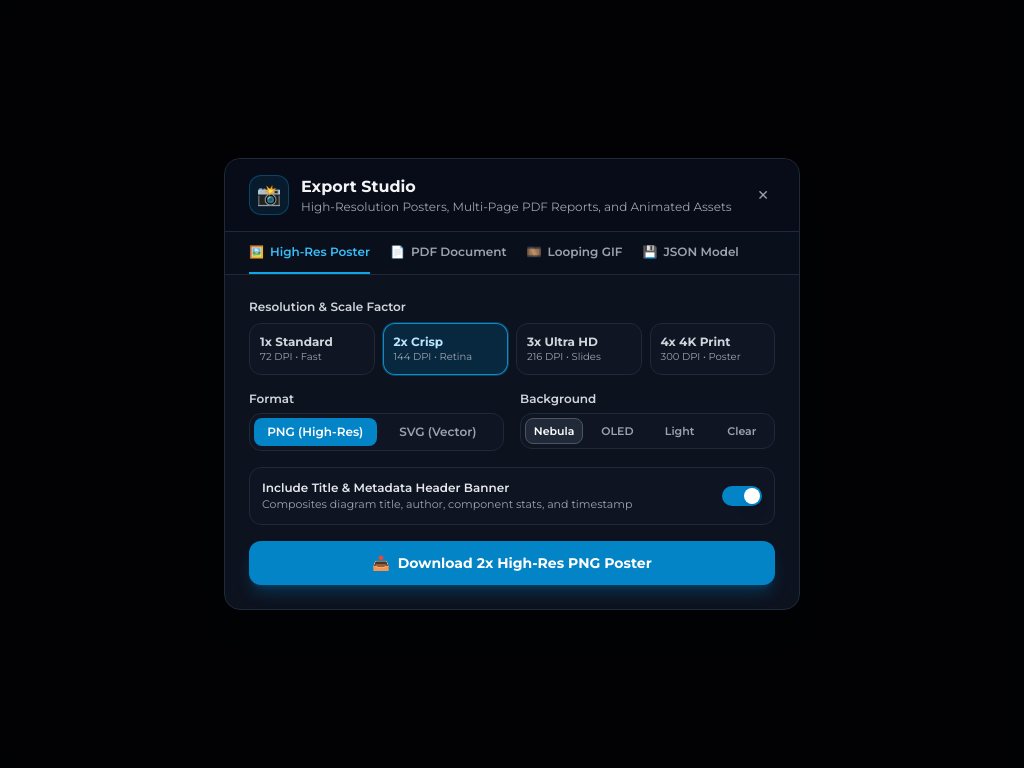
Test: ExportModal › allows switching resolution scale factors on Poster tab
# Click 4x scale
What coordinates should you click on to do the following:
click the text "4x 4K Print"
I would click on:
 (696, 342)
Its box is [660, 334, 731, 349].
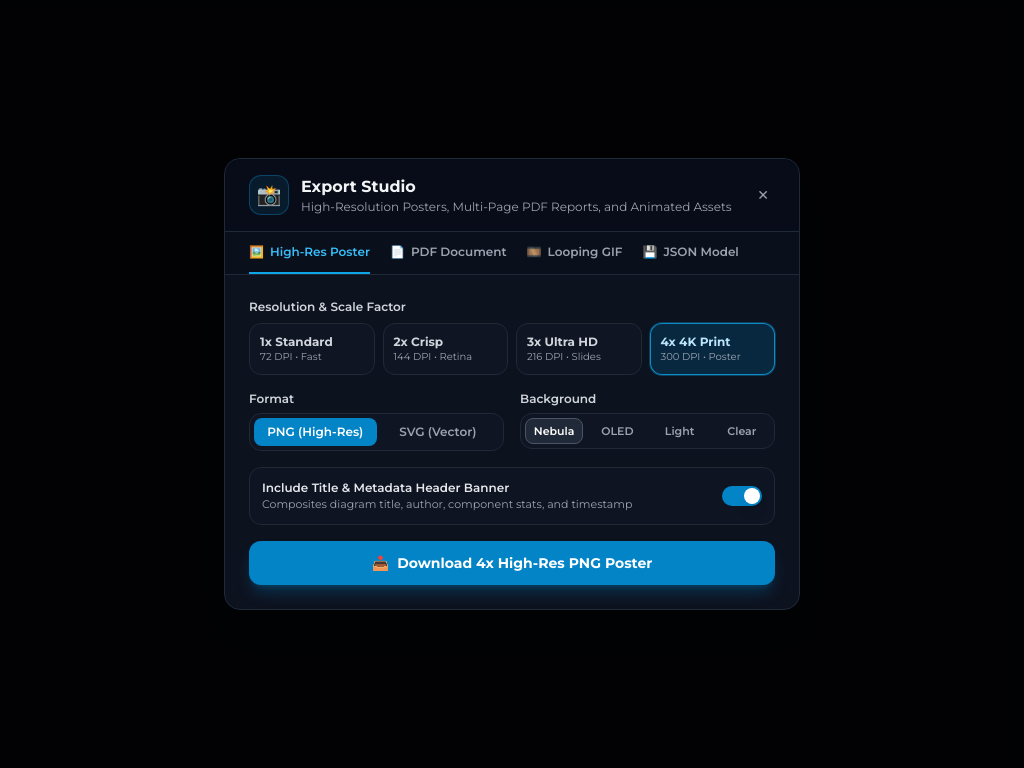
Expected: the text "Download 4x High-Res PNG Poster" is shown, [397, 553, 652, 573]
